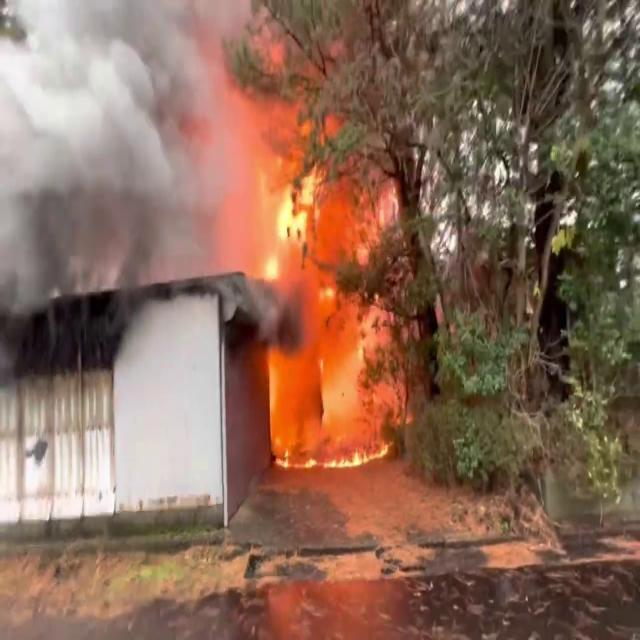Fire: (265, 149, 423, 467)
Smoke: (0, 0, 256, 352)
